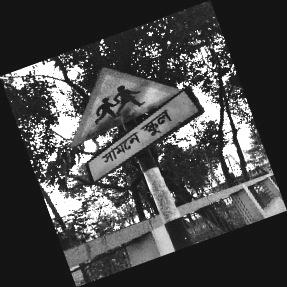School-in-front: (74, 69, 203, 182)
